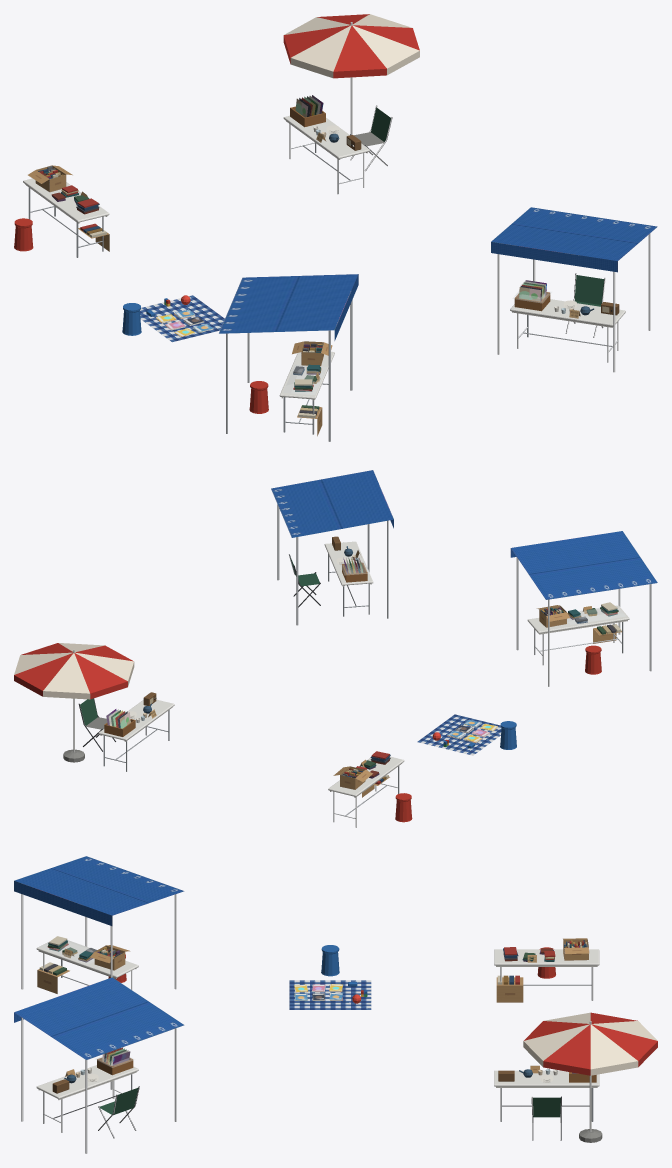
The model's file is wz_market.glb.
3 renders of one model, top to bottom at view 1: azimuth 30°, elevation 25°; view 2: azimuth 150°, elevation 25°; view 3: azimuth 270°, elevation 25°, orthographic. The views are drawn at different scales.
Parts seen in each view (by area): view 1: wzm_print.001, wzm_print, wzm_vc, wzm_vc.001, wzm_vc_metal.001, wzm_vc_metal, wzm_plastic; view 2: wzm_print.001, wzm_print, wzm_vc, wzm_vc.001, wzm_vc_metal.001, wzm_vc_metal, wzm_plastic; view 3: wzm_print.001, wzm_print, wzm_vc, wzm_vc.001, wzm_vc_metal.001, wzm_vc_metal, wzm_plastic.
Boxes of the visible parts, x1,y1,x2,y2 form: wzm_print.001: (219, 207, 657, 436); wzm_print: (28, 14, 419, 342); wzm_vc: (14, 106, 390, 337); wzm_vc.001: (249, 275, 625, 418); wzm_vc_metal.001: (226, 233, 650, 441); wzm_vc_metal: (28, 22, 392, 257); wzm_plastic: (283, 291, 551, 394); wzm_print.001: (271, 470, 657, 643); wzm_print: (14, 643, 501, 797); wzm_vc: (63, 692, 516, 822); wzm_vc.001: (290, 536, 629, 674); wzm_vc_metal.001: (277, 504, 651, 686); wzm_vc_metal: (73, 649, 399, 827); wzm_plastic: (340, 562, 625, 624); wzm_print.001: (14, 856, 184, 1076); wzm_print: (289, 938, 657, 1075); wzm_vc: (295, 940, 602, 1142); wzm_vc.001: (36, 936, 138, 1115); wzm_vc_metal.001: (21, 894, 176, 1153); wzm_vc_metal: (500, 967, 593, 1140); wzm_plastic: (40, 940, 134, 1067).
Size of the model in its own units: 8.63 by 2.21 by 11.01.
4 materials, 1 textured.
